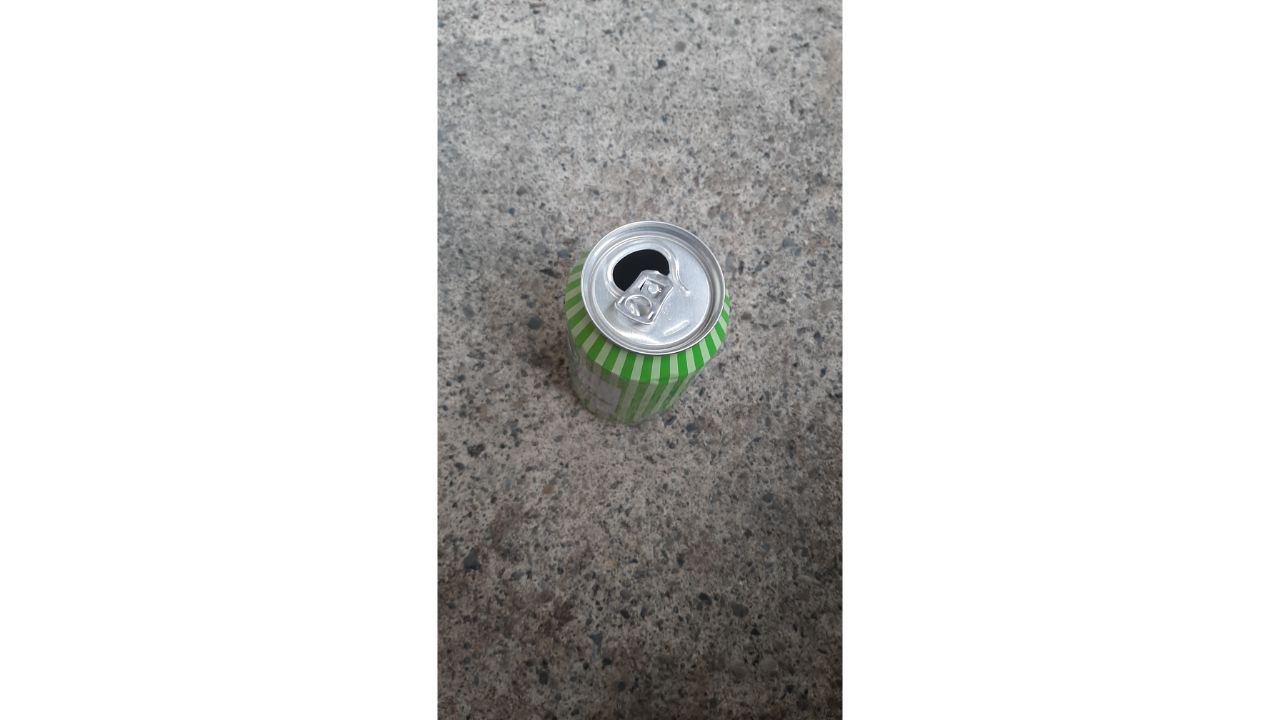Can: (551, 206, 740, 449)
